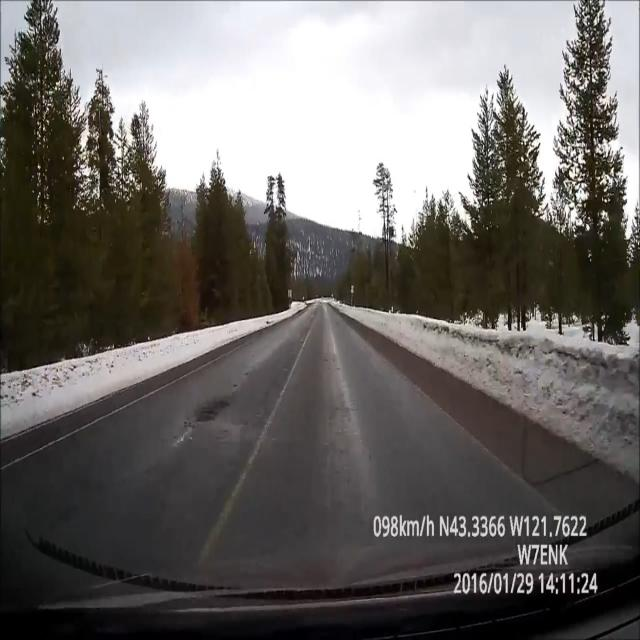Pothole: (192, 396, 234, 432)
